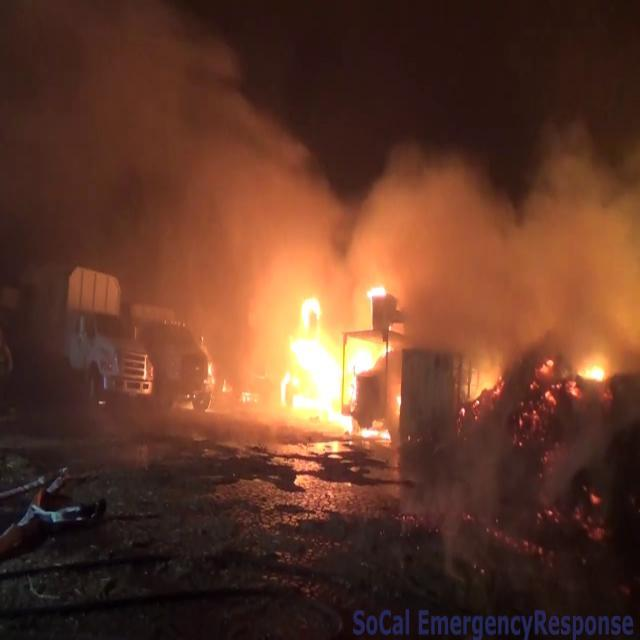Fire: (262, 271, 393, 438), (572, 352, 614, 394)
Smoke: (15, 3, 333, 387), (364, 71, 640, 398)
